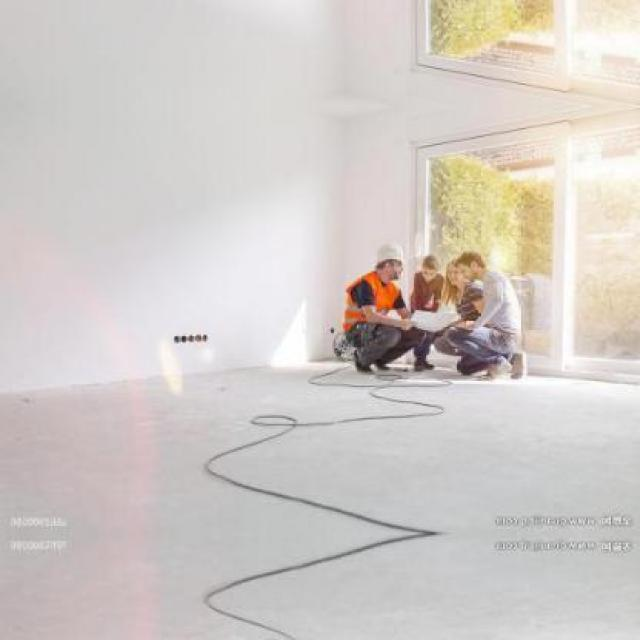Reflective-Jacket: (334, 268, 406, 339)
Safety-Helmet: (364, 236, 410, 274)
